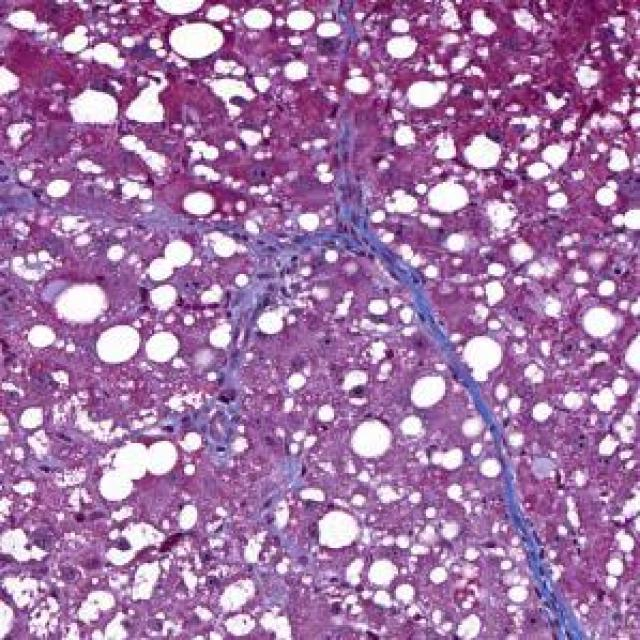fibrosis: (494, 456, 561, 623), (246, 204, 390, 268)
